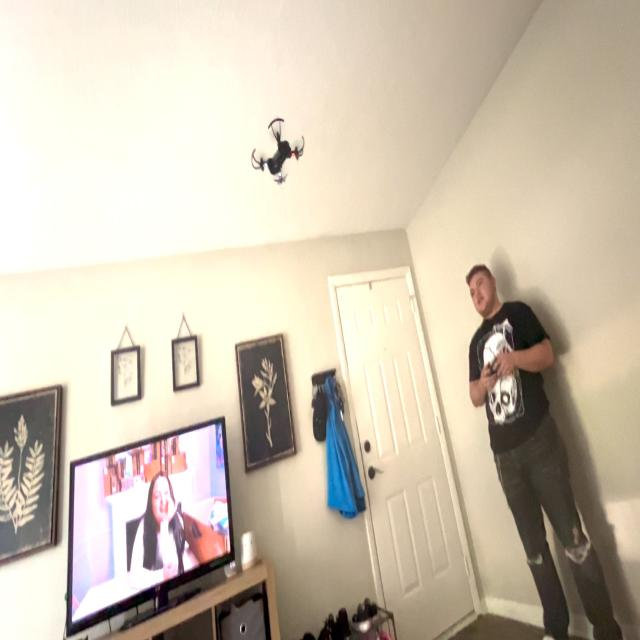drone: (236, 106, 322, 206)
